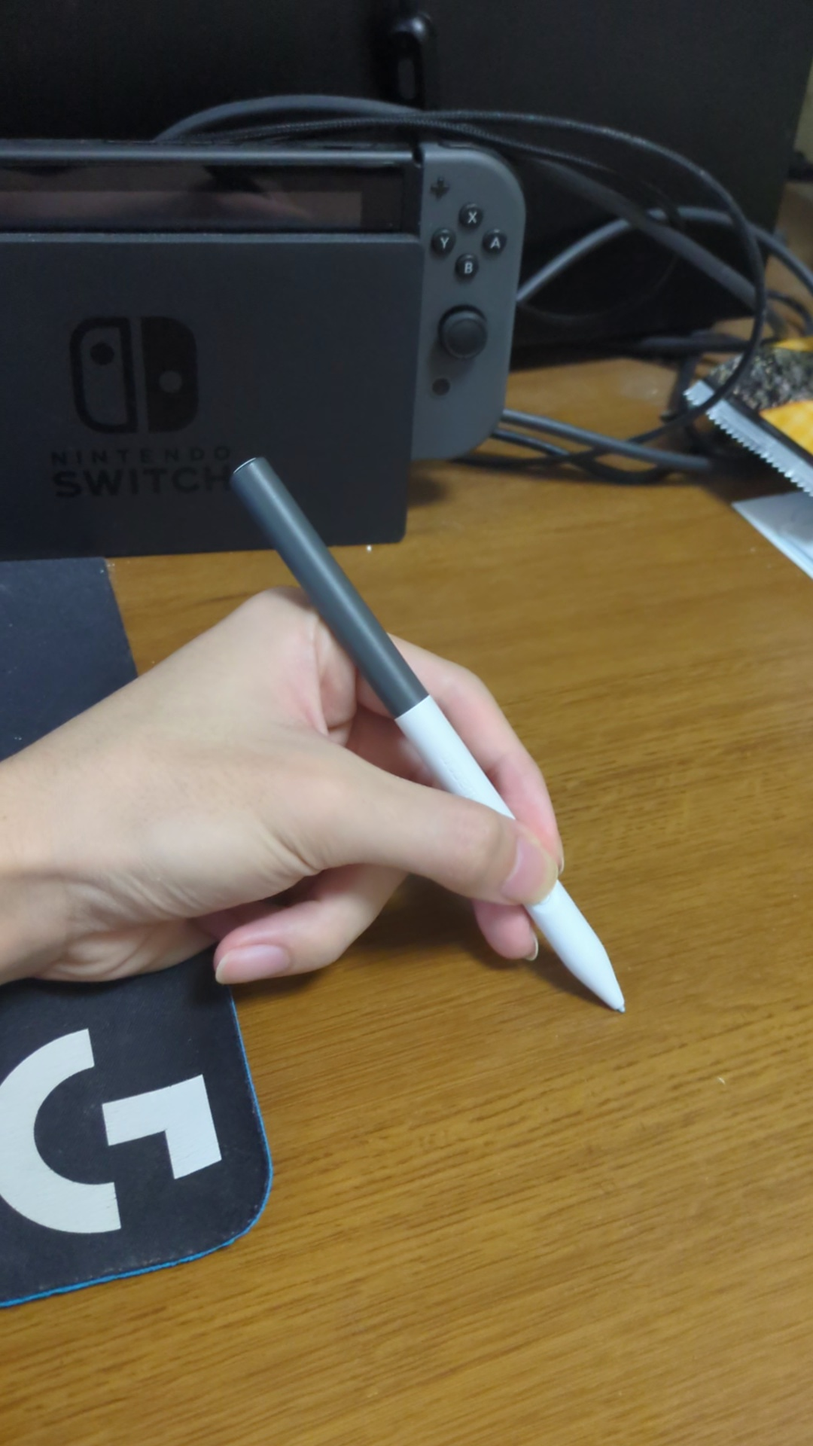pen: (227, 450, 638, 1019)
tip: (610, 995, 640, 1015)
